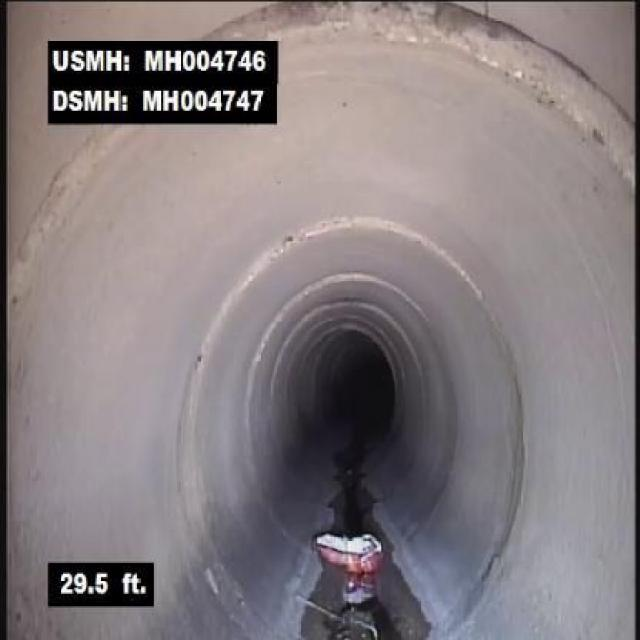Joint offset: (294, 0, 635, 157), (238, 172, 497, 280)
